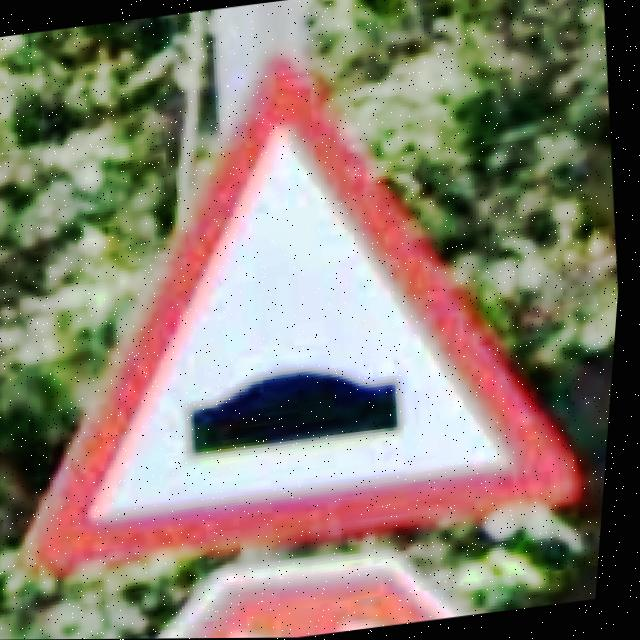hump: (35, 51, 591, 574)
